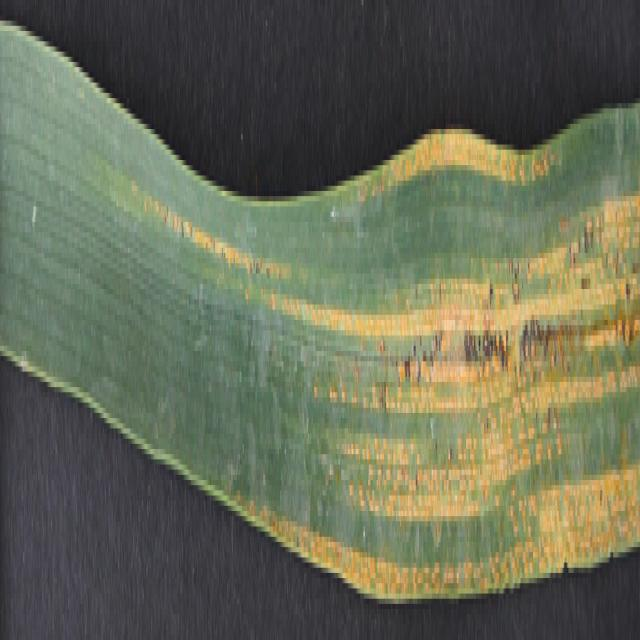leaf rust: (137, 119, 637, 604)
